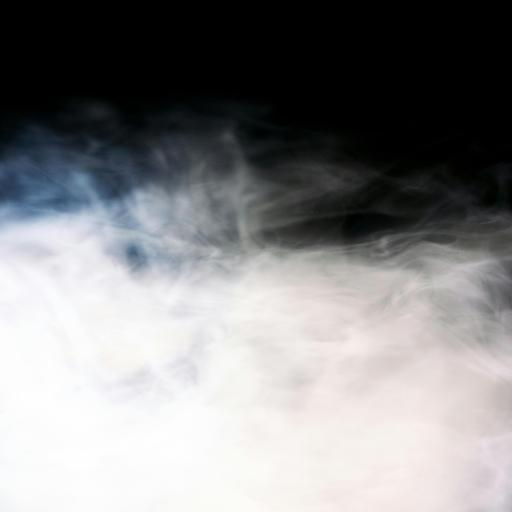smoke: (4, 184, 512, 512)
